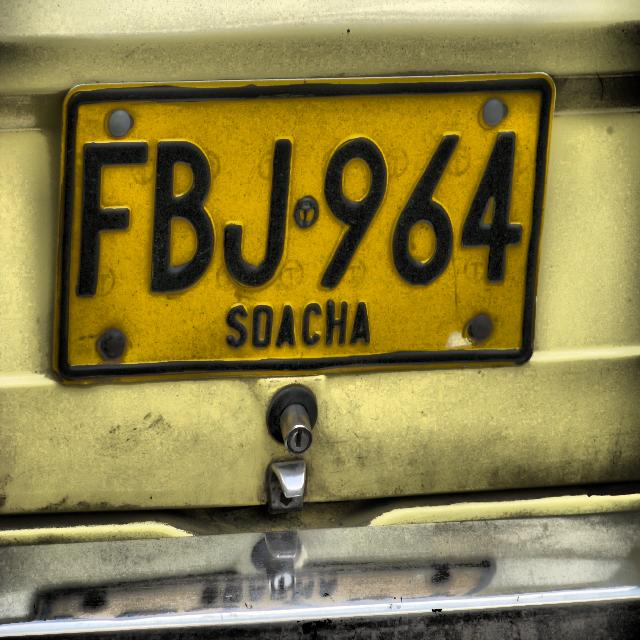plate: (55, 72, 554, 385)
